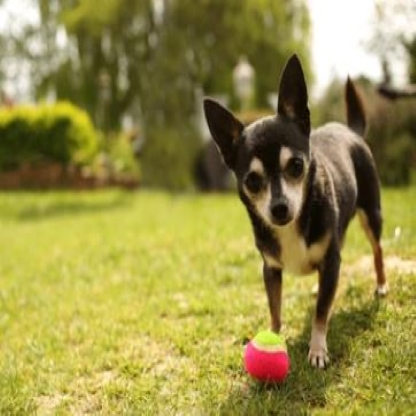chihuahua: (201, 54, 393, 370)
